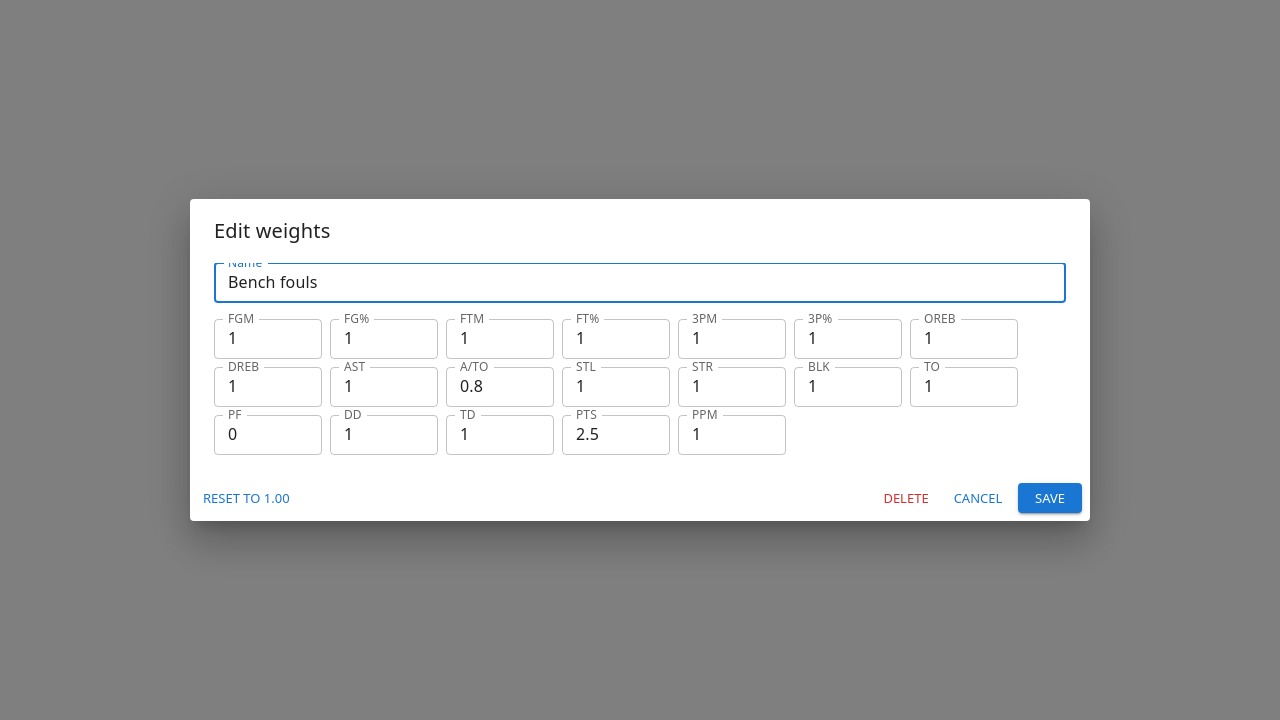
Reset to 1.00 sets every weight field back to 1
Step 1. Replace the text in the field labelled "Name" with "Keep me" → (640, 283), box [214,263,1066,303]
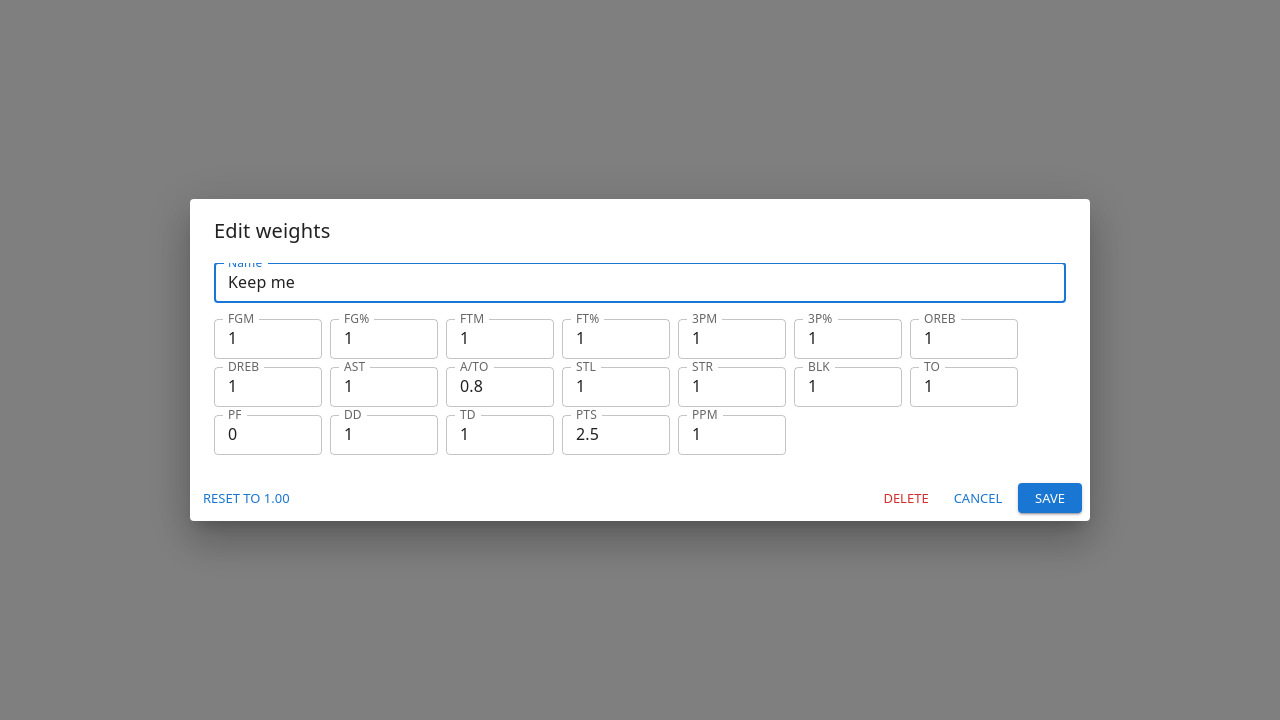
Step 2. Click the button "Delete" → (906, 498), box [874,483,938,513]
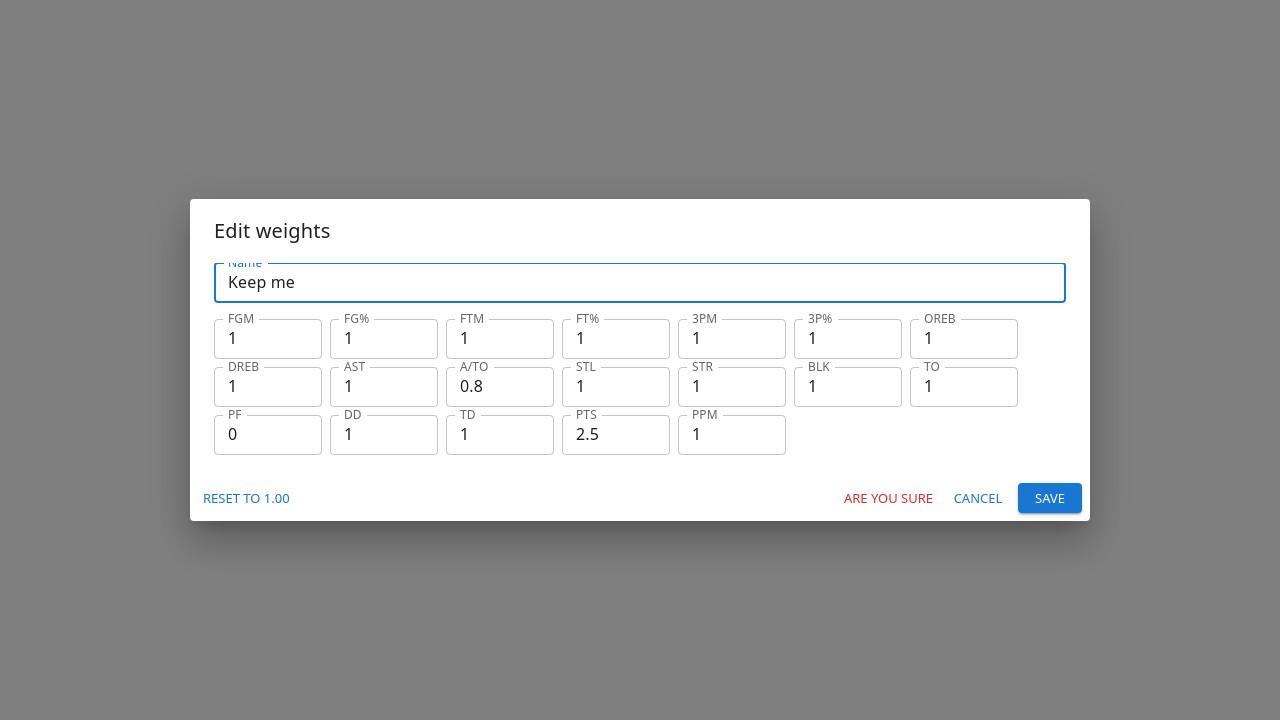
Step 3. Click the button "Reset to 1.00" → (246, 498), box [198,483,295,513]
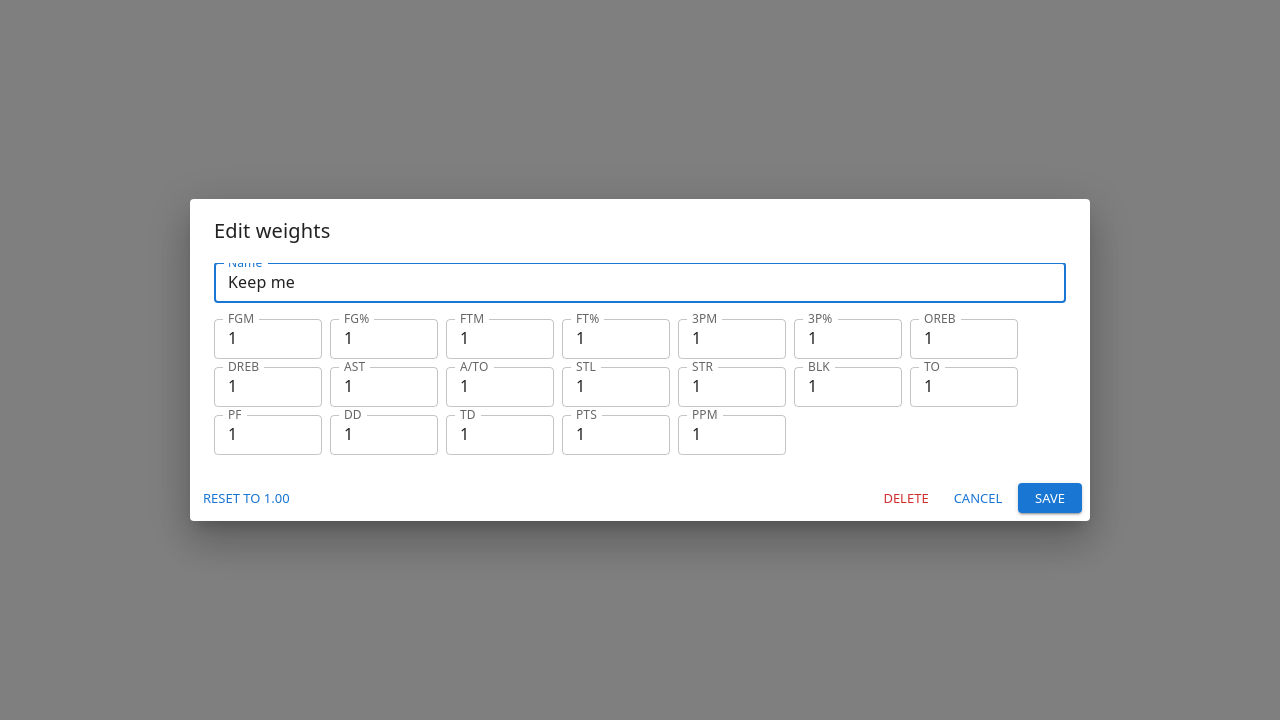
Now the number field labelled "A/TO" holds "1", box [446,367,554,407]
Now the number field labelled "PF" holds "1", box [214,415,322,455]
Now the number field labelled "PTS" holds "1", box [562,415,670,455]
